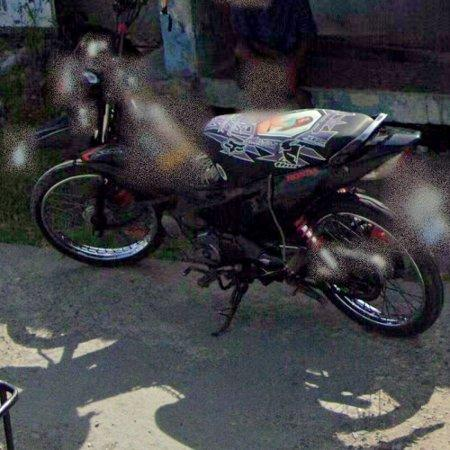motorcycles: (29, 0, 449, 340)
